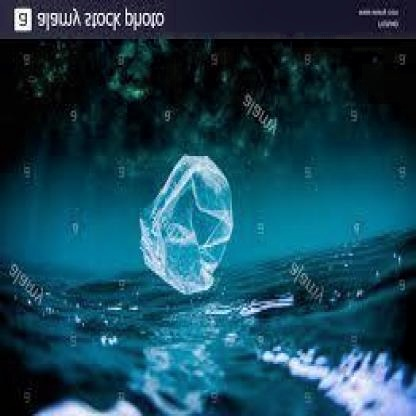pbag: (138, 154, 237, 294)
